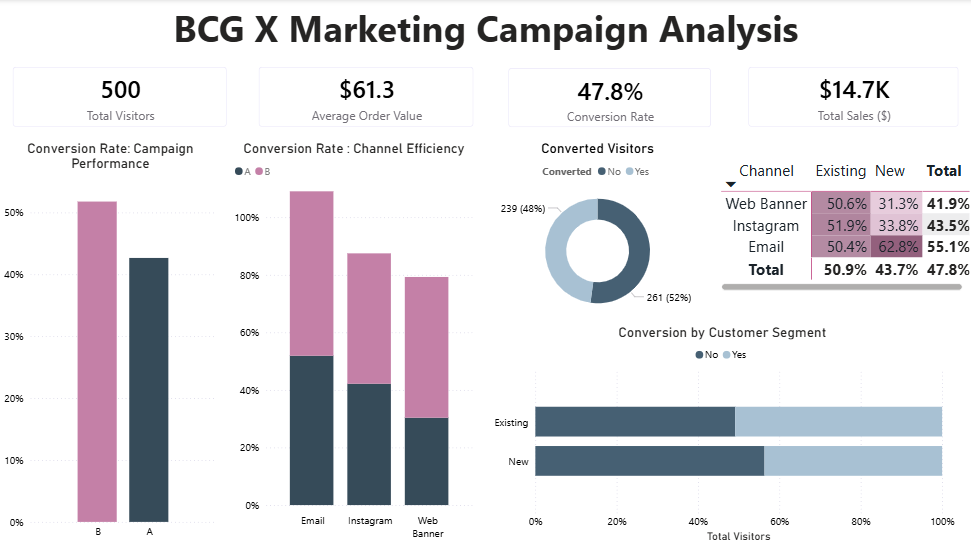

The page's visual inventory and layout, read from the dashboard file:
{"tool":"powerbi","page":{"name":"Campaign Analysis","canvas":[1280,720],"ordinal":0},"visuals":[{"type":"textbox","box":[0,0,1280.5,74.3],"z":4000},{"type":"cardVisual","fields":{"Data":["Clean_data.Total Visitors"]},"box":[0,72.7,316.1,113.8],"z":5000},{"type":"cardVisual","fields":{"Data":["Sum(Clean_data.Sales ($))"]},"box":[968.9,72.7,311.4,113.8],"z":6000},{"type":"cardVisual","fields":{"Data":["Clean_data.AOV"]},"box":[324,72.7,317.7,113.8],"z":7000},{"type":"cardVisual","fields":{"Data":["Clean_data.Conversion %"]},"box":[652.8,74.3,301.9,112.2],"z":8000},{"type":"clusteredColumnChart","title":"Conversion Rate: Campaign Performance","fields":{"Category":["Clean_data.Campaign Type"],"Y":["Clean_data.Conversion %"]},"box":[0,186.5,290.8,534.2],"z":9000},{"type":"columnChart","title":"Conversion Rate : Channel Efficiency","fields":{"Category":["Clean_data.Channel"],"Series":["Clean_data.Campaign Type"],"Y":["Clean_data.Conversion %"]},"box":[303.5,186.5,325.6,534.2],"z":10000},{"type":"hundredPercentStackedBarChart","title":"Conversion by Customer Segment","fields":{"Category":["Clean_data.Customer Type"],"Y":["Clean_data.Total Visitors"],"Series":["Clean_data.Converted"]},"box":[640.1,428.3,622.7,292.4],"z":11000},{"type":"pivotTable","fields":{"Rows":["Clean_data.Channel"],"Columns":["Clean_data.Customer Type"],"Values":["Clean_data.Conversion %"]},"box":[945.2,205.5,336.7,183.3],"z":12000},{"type":"donutChart","title":"Converted Visitors","fields":{"Category":["Clean_data.Converted"],"Y":["Clean_data.Total Visitors"]},"box":[629.1,186.5,316.1,241.8],"z":13000}]}

Visuals, with their boxes in screenshot pixels (x1, y1, x2, y2), scaled from the page's 1280x720 canvas onto the 971x546 screenshot:
textbox: 0,0,970,56
cardVisual - Clean_data.Total Visitors: 0,55,240,141
cardVisual - Sum(Clean_data.Sales ($)): 735,55,970,141
cardVisual - Clean_data.AOV: 246,55,487,141
cardVisual - Clean_data.Conversion %: 495,56,724,141
"Conversion Rate: Campaign Performance" clusteredColumnChart: 0,141,221,545
"Conversion Rate : Channel Efficiency" columnChart: 230,141,477,545
"Conversion by Customer Segment" hundredPercentStackedBarChart: 486,325,958,545
pivotTable - Clean_data.Channel x Clean_data.Customer Type: 717,156,970,295
"Converted Visitors" donutChart: 477,141,717,325
